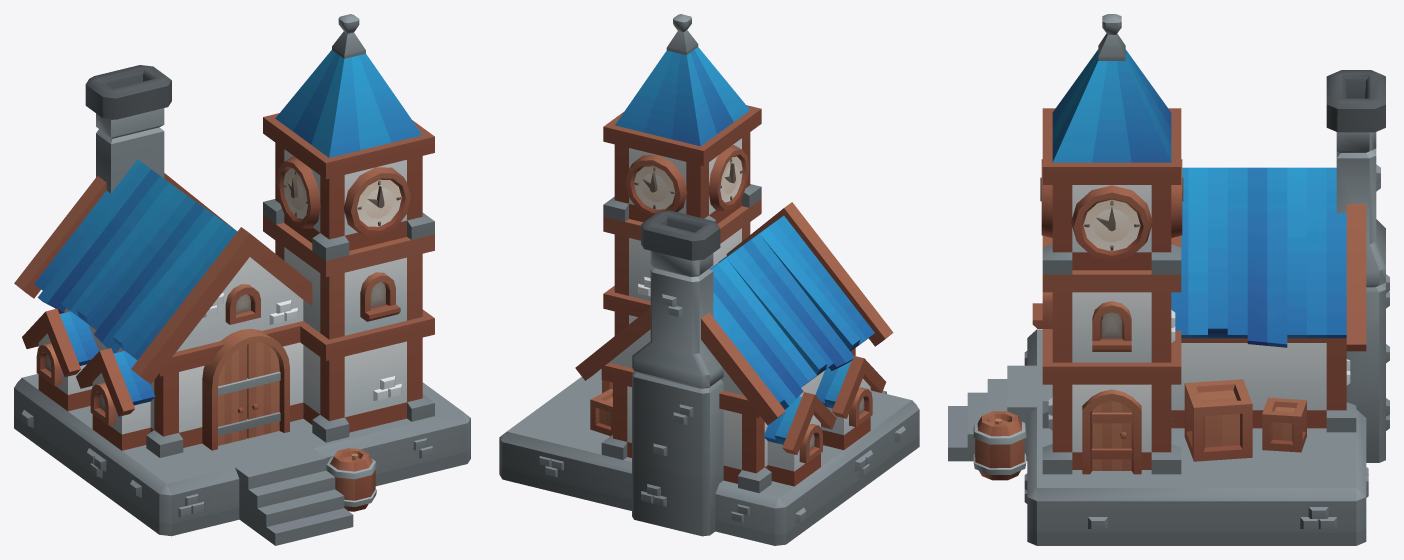
Rendered from building_townhall_blue.glb.
The picture shows the model from 3 angles, left to right: view 1: azimuth 30°, elevation 25°; view 2: azimuth 150°, elevation 25°; view 3: azimuth 270°, elevation 25°; orthographic projection. The views are drawn at different scales.
Visible parts, largest first — view 1: building_townhall_blue; view 2: building_townhall_blue; view 3: building_townhall_blue.
Boxes of the visible parts, x1,y1,x2,y2 form: building_townhall_blue: [14, 14, 470, 545]; building_townhall_blue: [499, 14, 919, 545]; building_townhall_blue: [948, 14, 1389, 545].
Bounding box in the file's own units: 1.44 × 1.89 × 1.56.
1 material, 1 textured.
